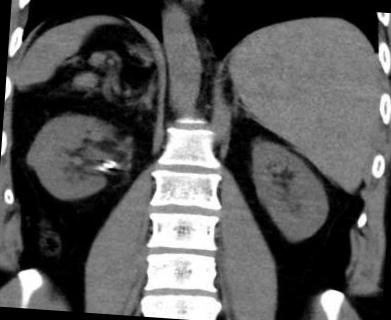Tas_Var: (100, 162, 114, 170), (98, 166, 106, 172), (108, 160, 115, 166)
